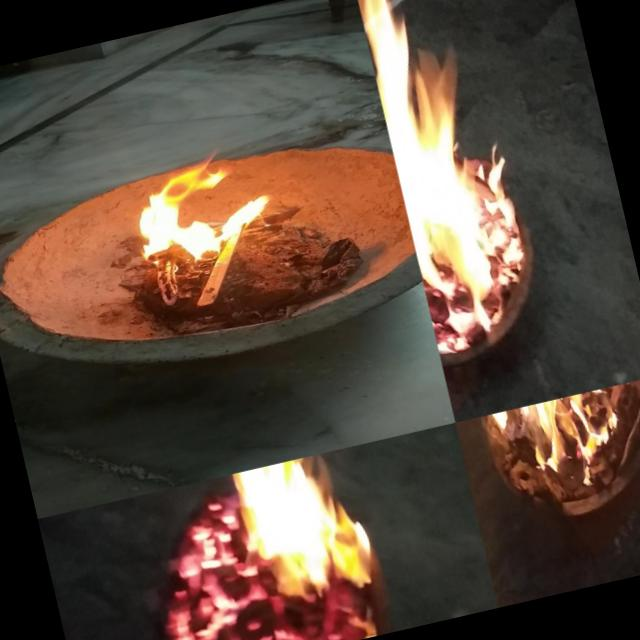fire: (353, 0, 550, 361), (219, 441, 413, 640), (104, 140, 280, 280), (455, 387, 626, 503), (162, 480, 226, 640)
